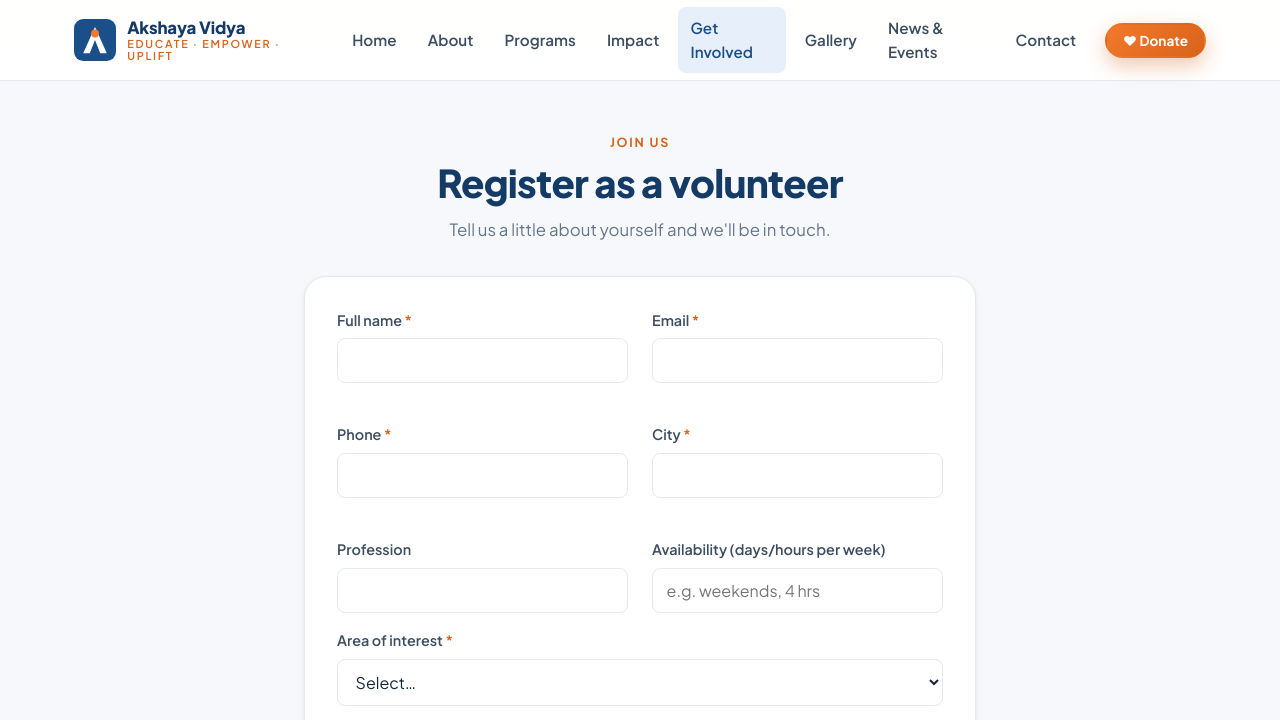
Test case: Get Involved page › submits successfully with valid data and acknowledges (VOL-02)
(page scrolled)
Type "Ravi Kumar" into the field labelled "Full name *" at (482, 361), box [337,338,628,384]
(page scrolled)
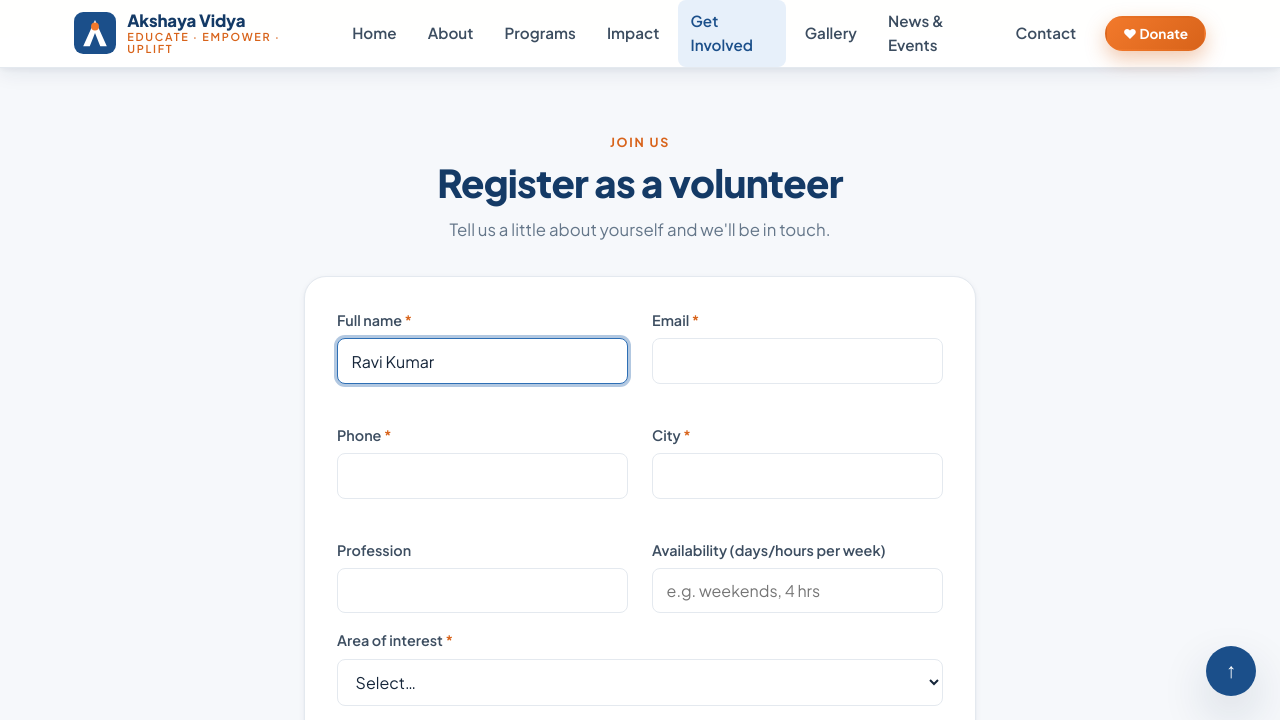
Type "ravi@example.com" into the field labelled "Email *" at (798, 361), box [652,338,943,384]
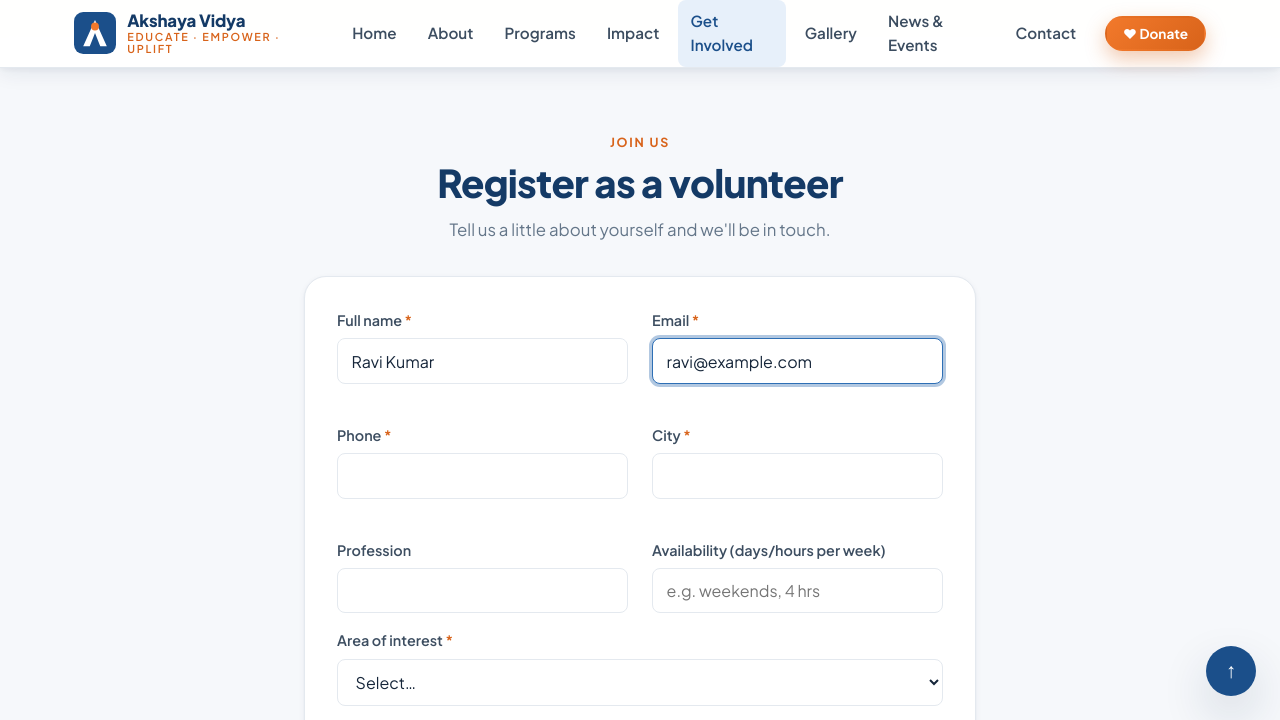
Type "9876543210" into the field labelled "Phone *" at (482, 476), box [337,453,628,498]
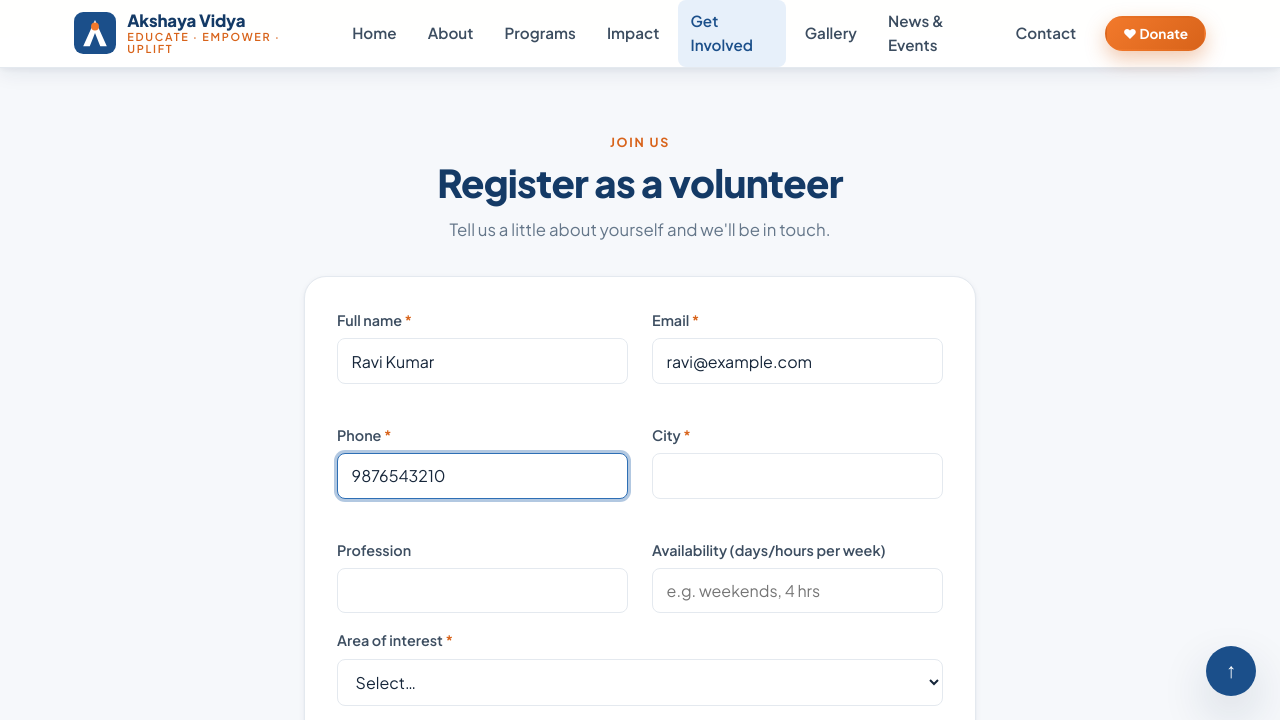
Type "Hyderabad" into the field labelled "City *" at (798, 476), box [652,453,943,498]
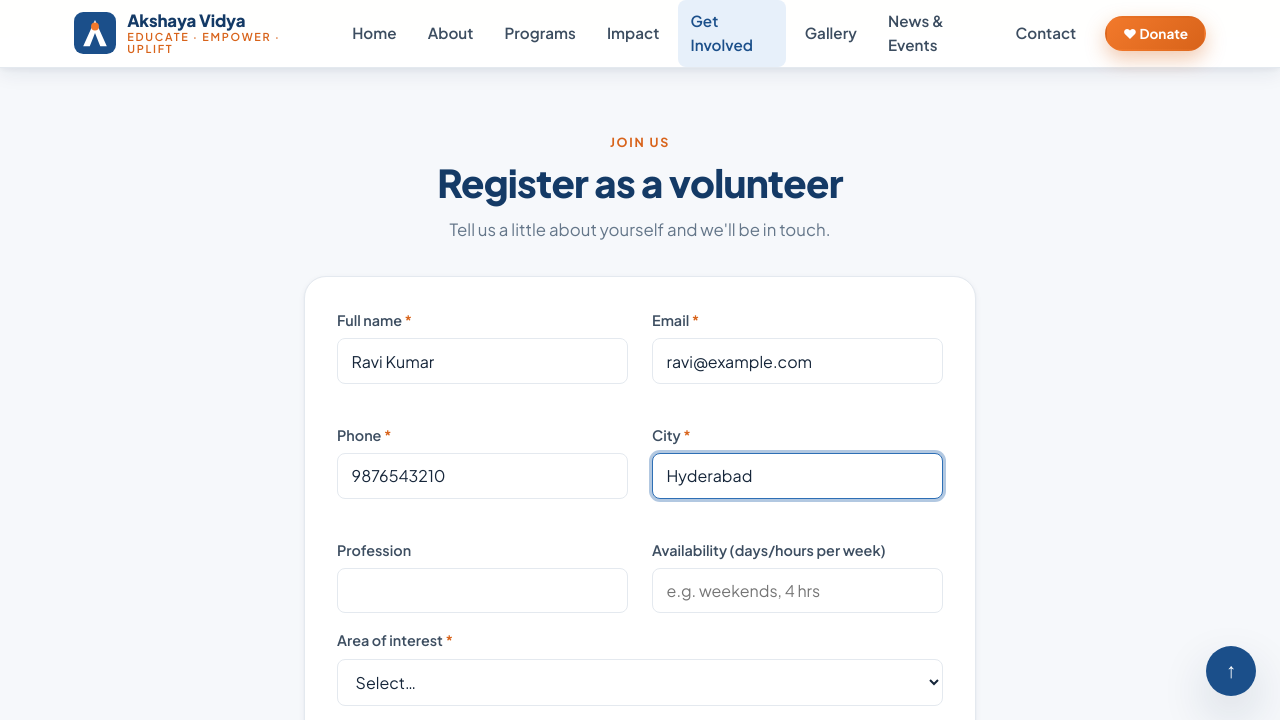
Select "Teaching / Tutoring" in the dropdown labelled "Area of interest *" at (640, 682), box [337,659,943,706]
(page scrolled)
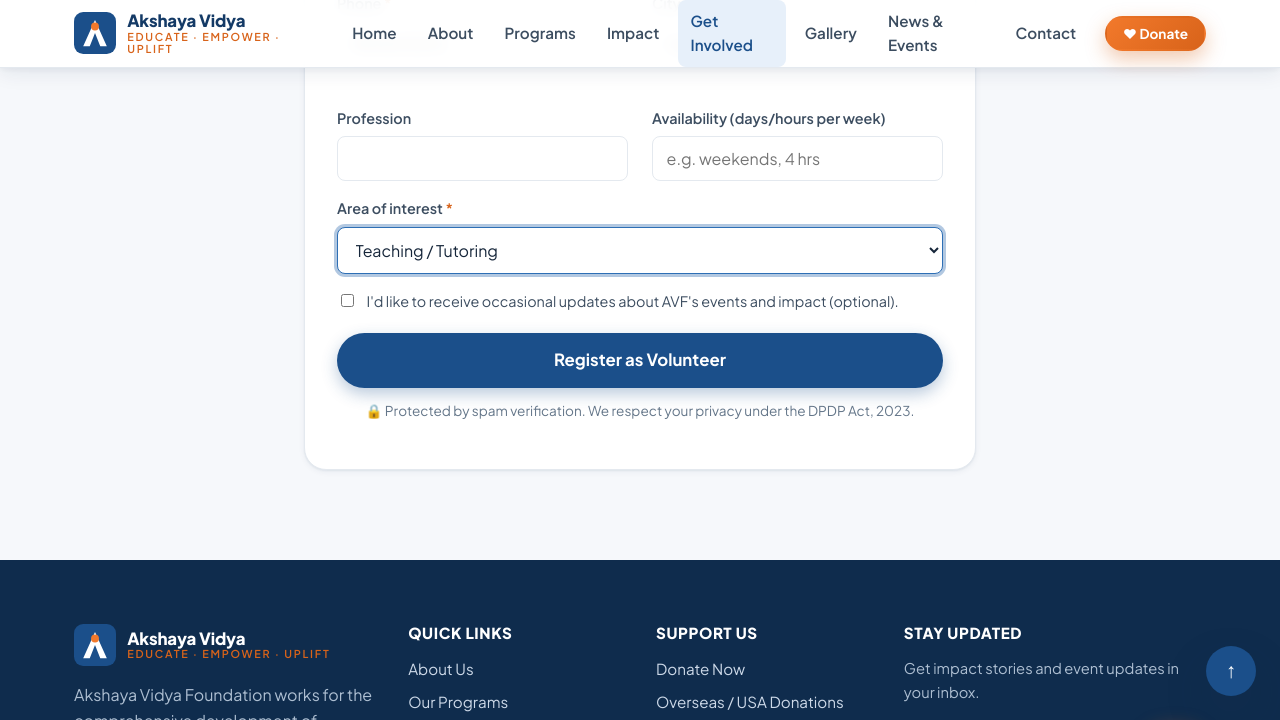
Click the button "Register as Volunteer" at (640, 360), box [337,333,943,388]
(page scrolled)
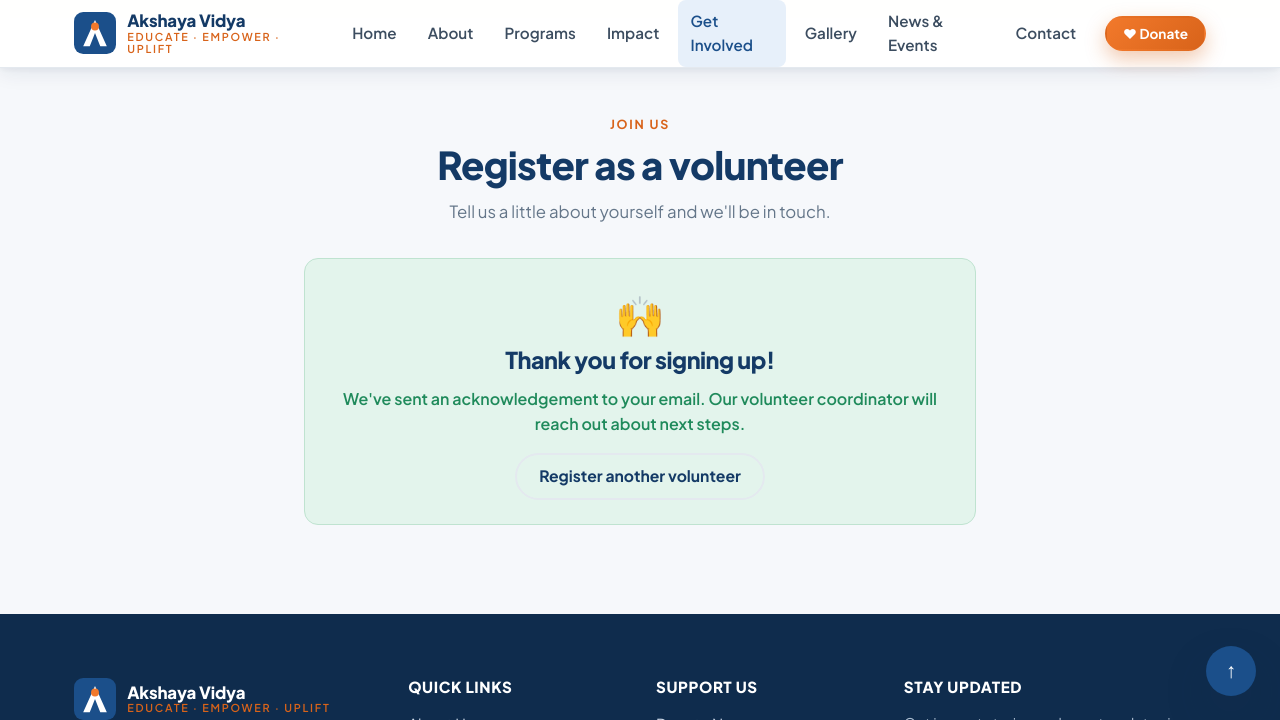
Result: the heading "Thank you for signing up!" is shown at [505,345,775,374]
